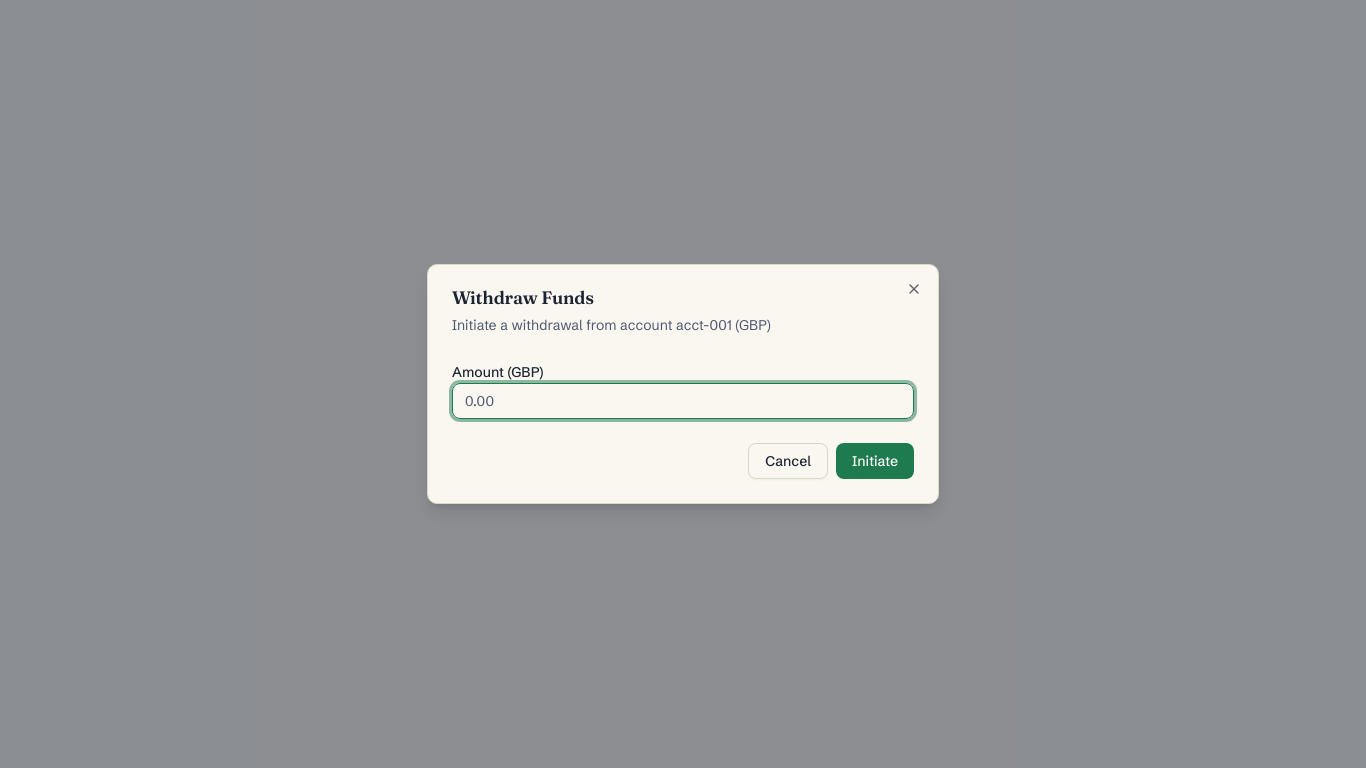
Scenario: WithdrawDialog - step 1 validation › shows error when amount is zero
In the field labelled "Amount (GBP)": [683, 401] box [452,383,914,419], type "0"
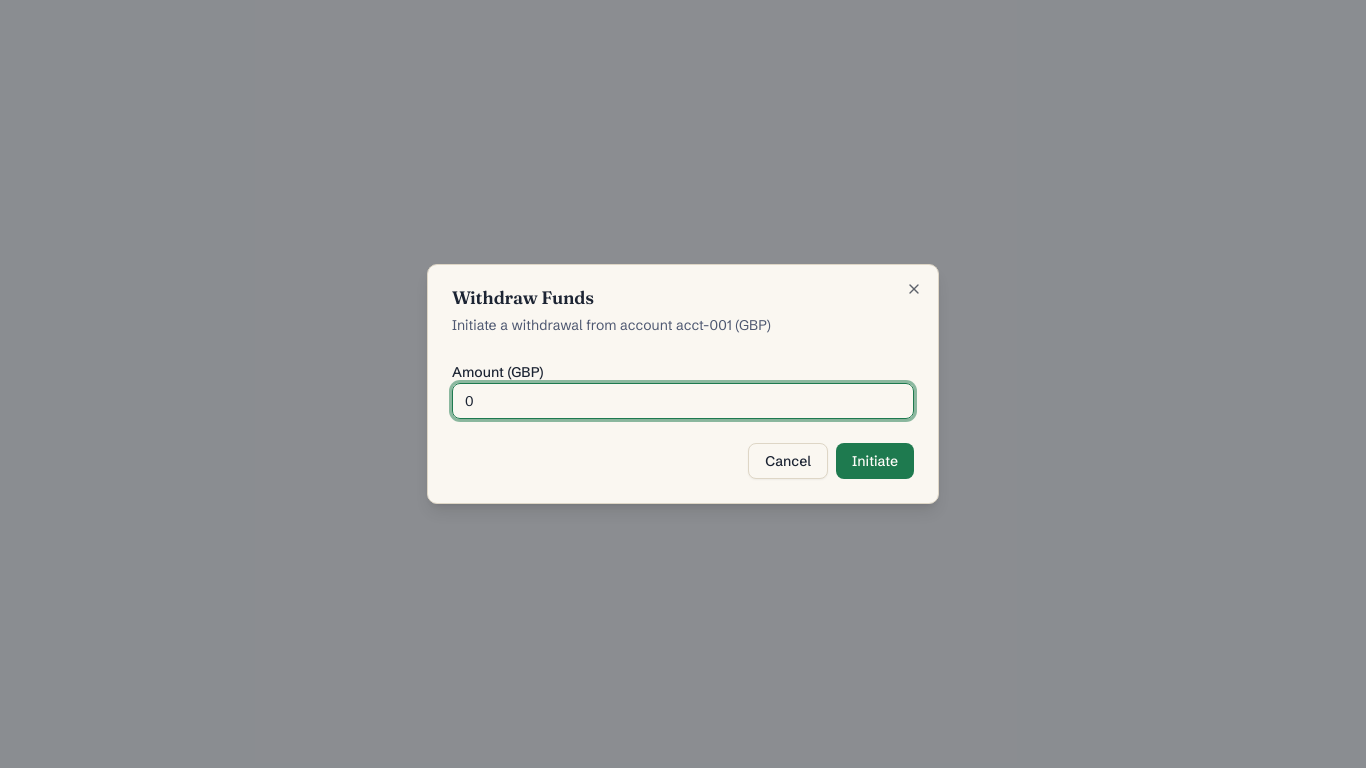
Click the button "Initiate": [875, 461] box [836,443,914,479]
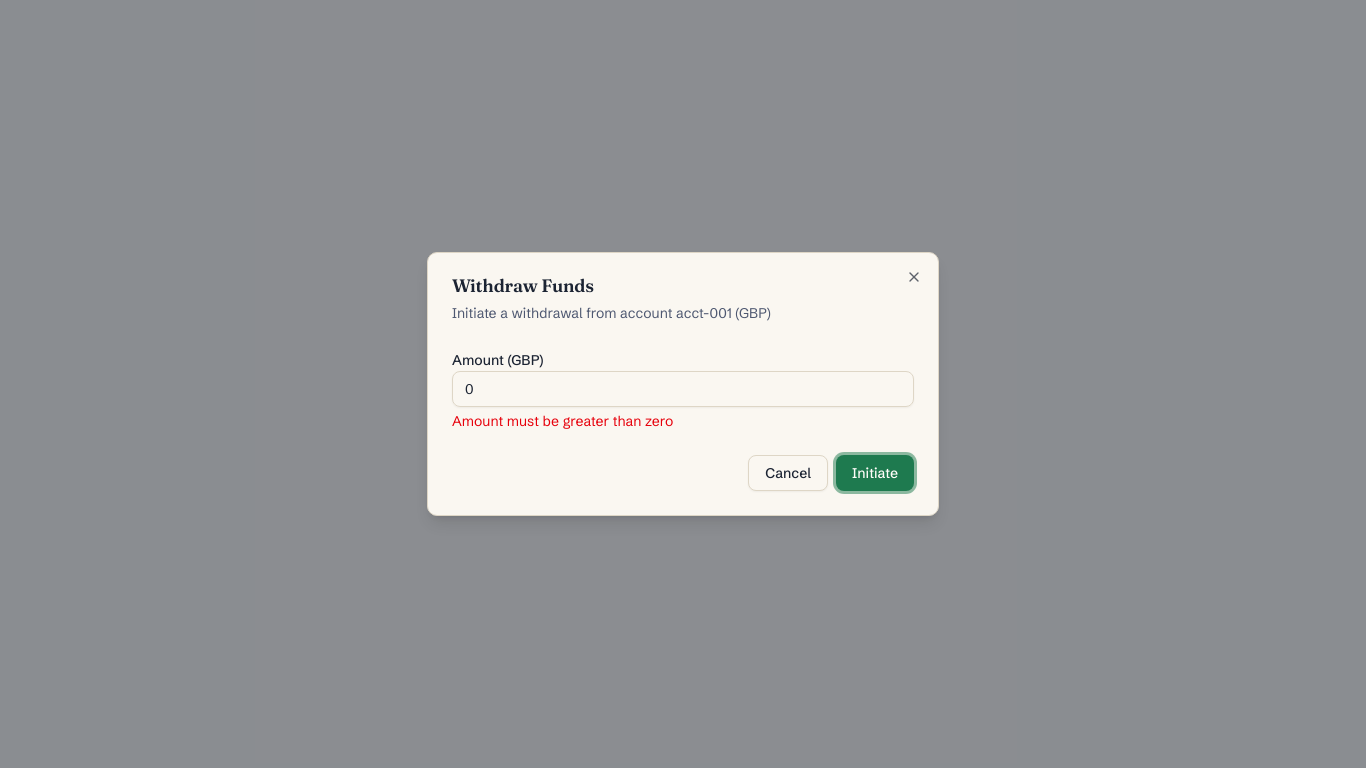
expect the text "Amount must be greater than zero" is shown: met, box [452,412,673,430]
